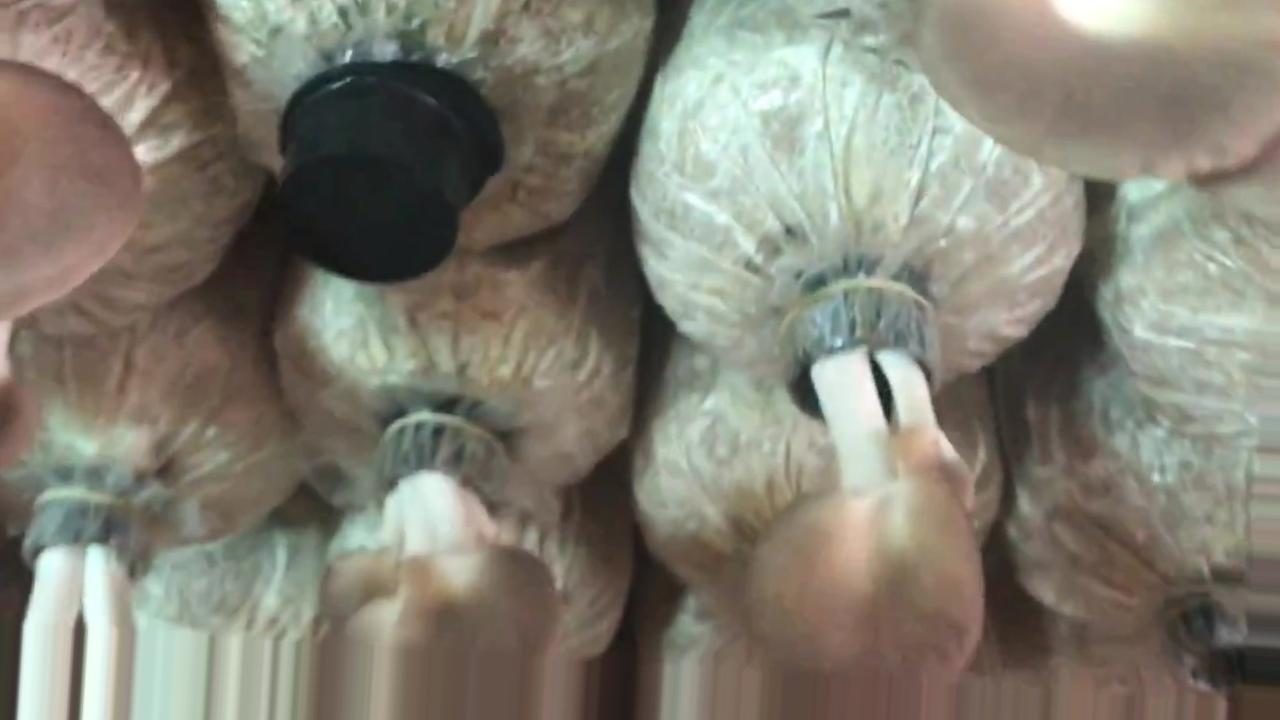nam: (744, 288, 984, 670), (323, 418, 554, 720), (921, 1, 1280, 179), (1, 61, 144, 322)
